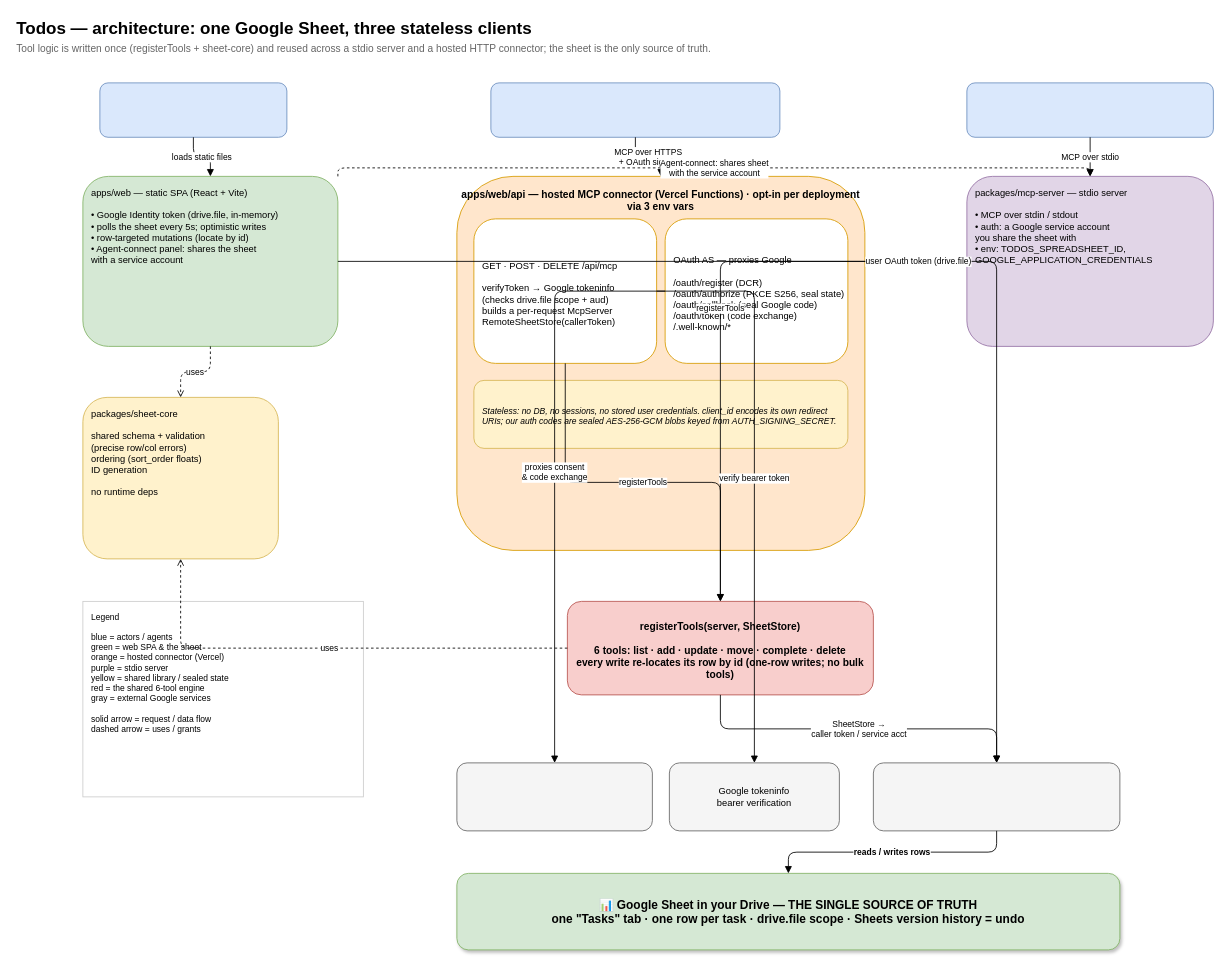
Image size: 1228x971. Some labels were removed from this diagram. Here are the shapes that lost their labels. From the top down, the centre of each, then its label:
the point at 193,109: Browser (end user)
the point at 635,109: claude.ai — custom connector (web, plus cloud & scheduled routines)
the point at 1089,109: Local coding agents Claude Code · Codex
the point at 554,796: Google OAuth consent + token endpoint
the point at 996,796: Google Sheets & Drive REST API
